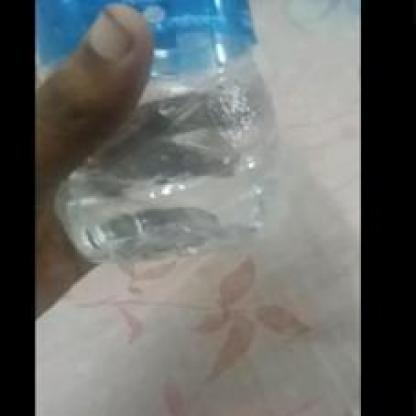bottle: (41, 0, 290, 282)
